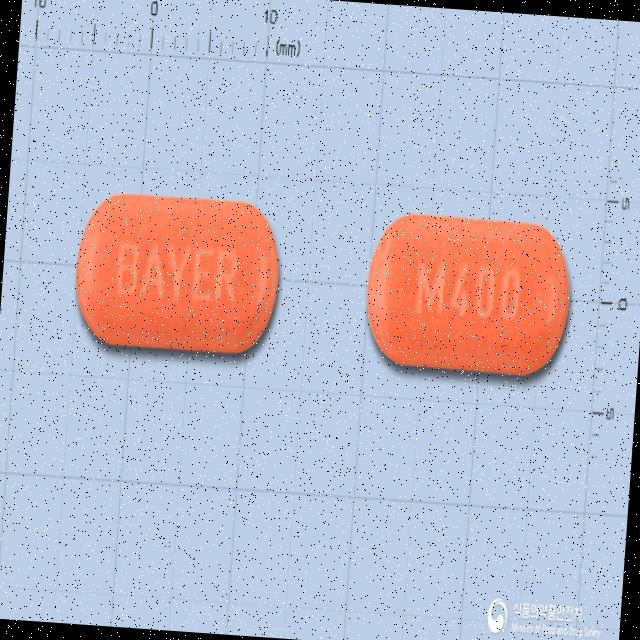Avelox: (66, 183, 288, 367), (358, 205, 576, 388)
